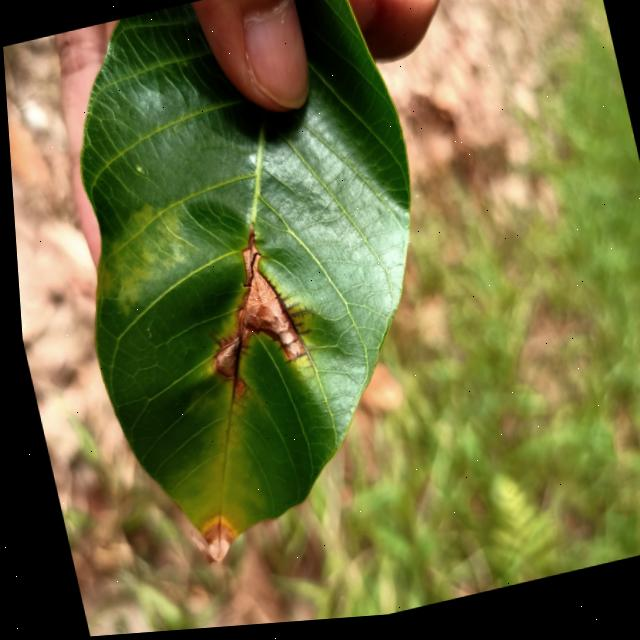Corynespora: (251, 261, 320, 383), (219, 335, 252, 396)
Leaf-Blight: (216, 241, 299, 371), (181, 523, 229, 570), (203, 337, 241, 384)
